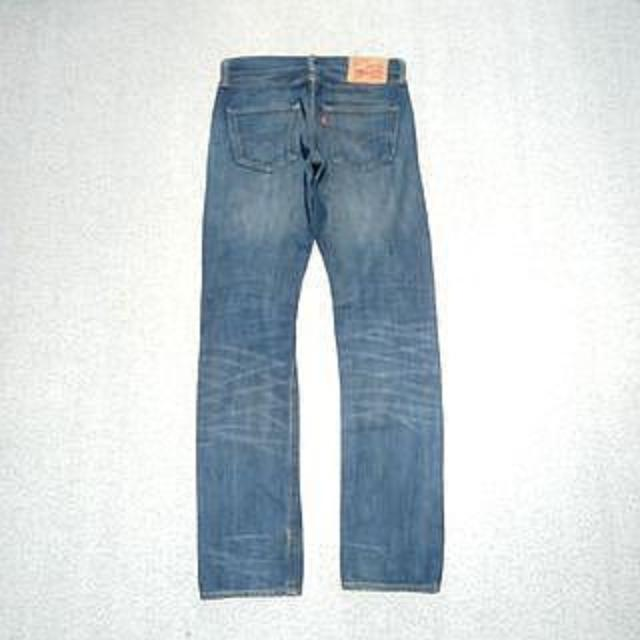TROUSER: (171, 48, 484, 609)
